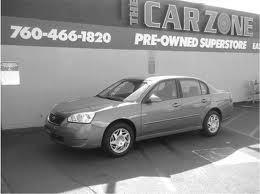car: (40, 64, 236, 169)
